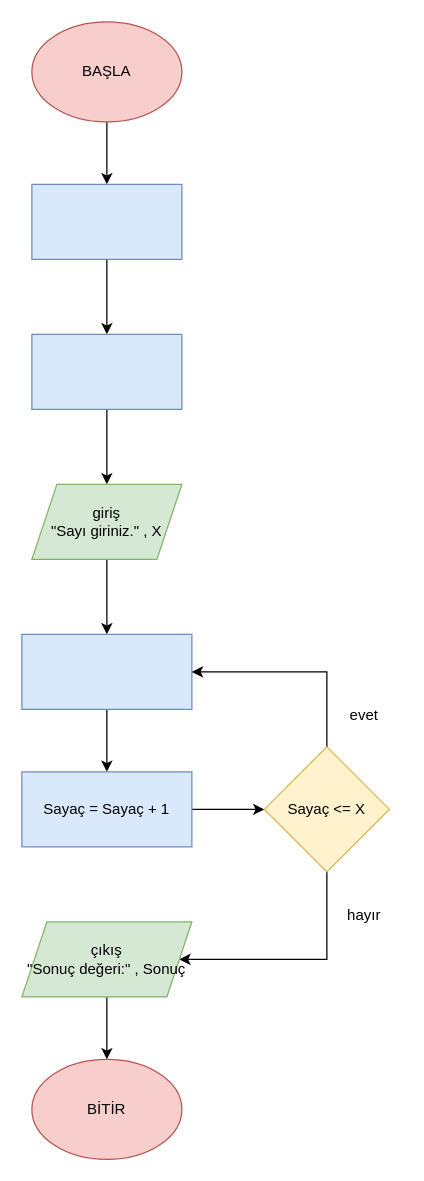
Image size: 424x1181. Some labels were removed from this diagram. Here are the shapes that lost their labels. From the top down, the centre of each, then its label:
At point 106,221: "Sayaç =1".
At point 106,371: "Sonuç=1".
At point 106,671: "Sonuç= Sonuç * Sayaç".
